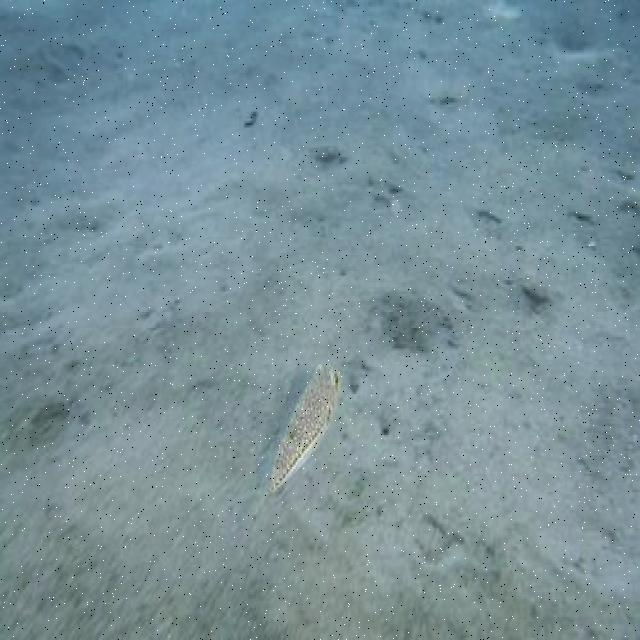Balik: (269, 365, 340, 494)
